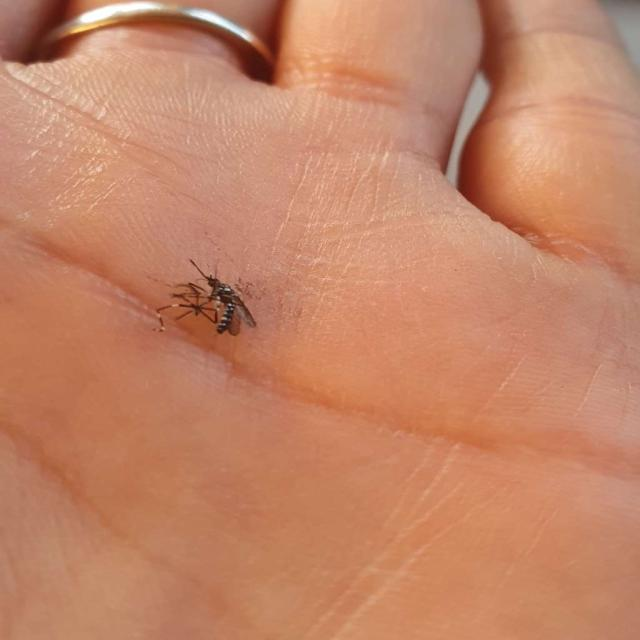albopictus: (143, 248, 261, 340)
